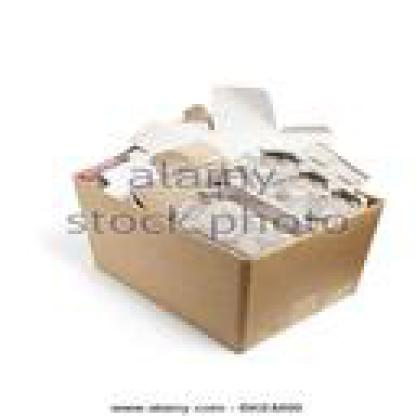CARDBOARD: (71, 123, 380, 351), (179, 81, 273, 127)
